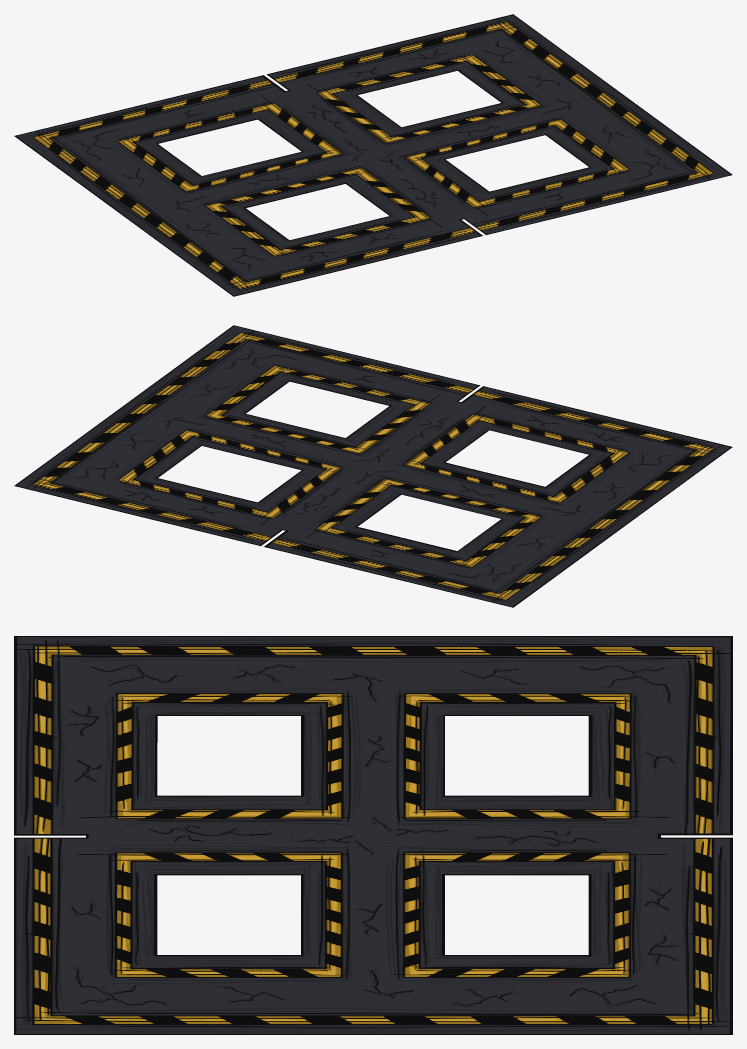
The model's file is Ground2.fbx.
3 views of the same model, one above another, from view 1: azimuth 30°, elevation 25°; view 2: azimuth 150°, elevation 25°; view 3: azimuth 270°, elevation 25° (orthographic). The views are drawn at different scales.
Visible parts, largest first — view 1: Ground; view 2: Ground; view 3: Ground.
Part boxes in pixels (x1=…): Ground: x1=14, y1=14, x2=732, y2=296; Ground: x1=14, y1=325, x2=732, y2=607; Ground: x1=14, y1=636, x2=732, y2=1034.
Size of the model in its own units: 2559 by 0.000405 by 1950.
